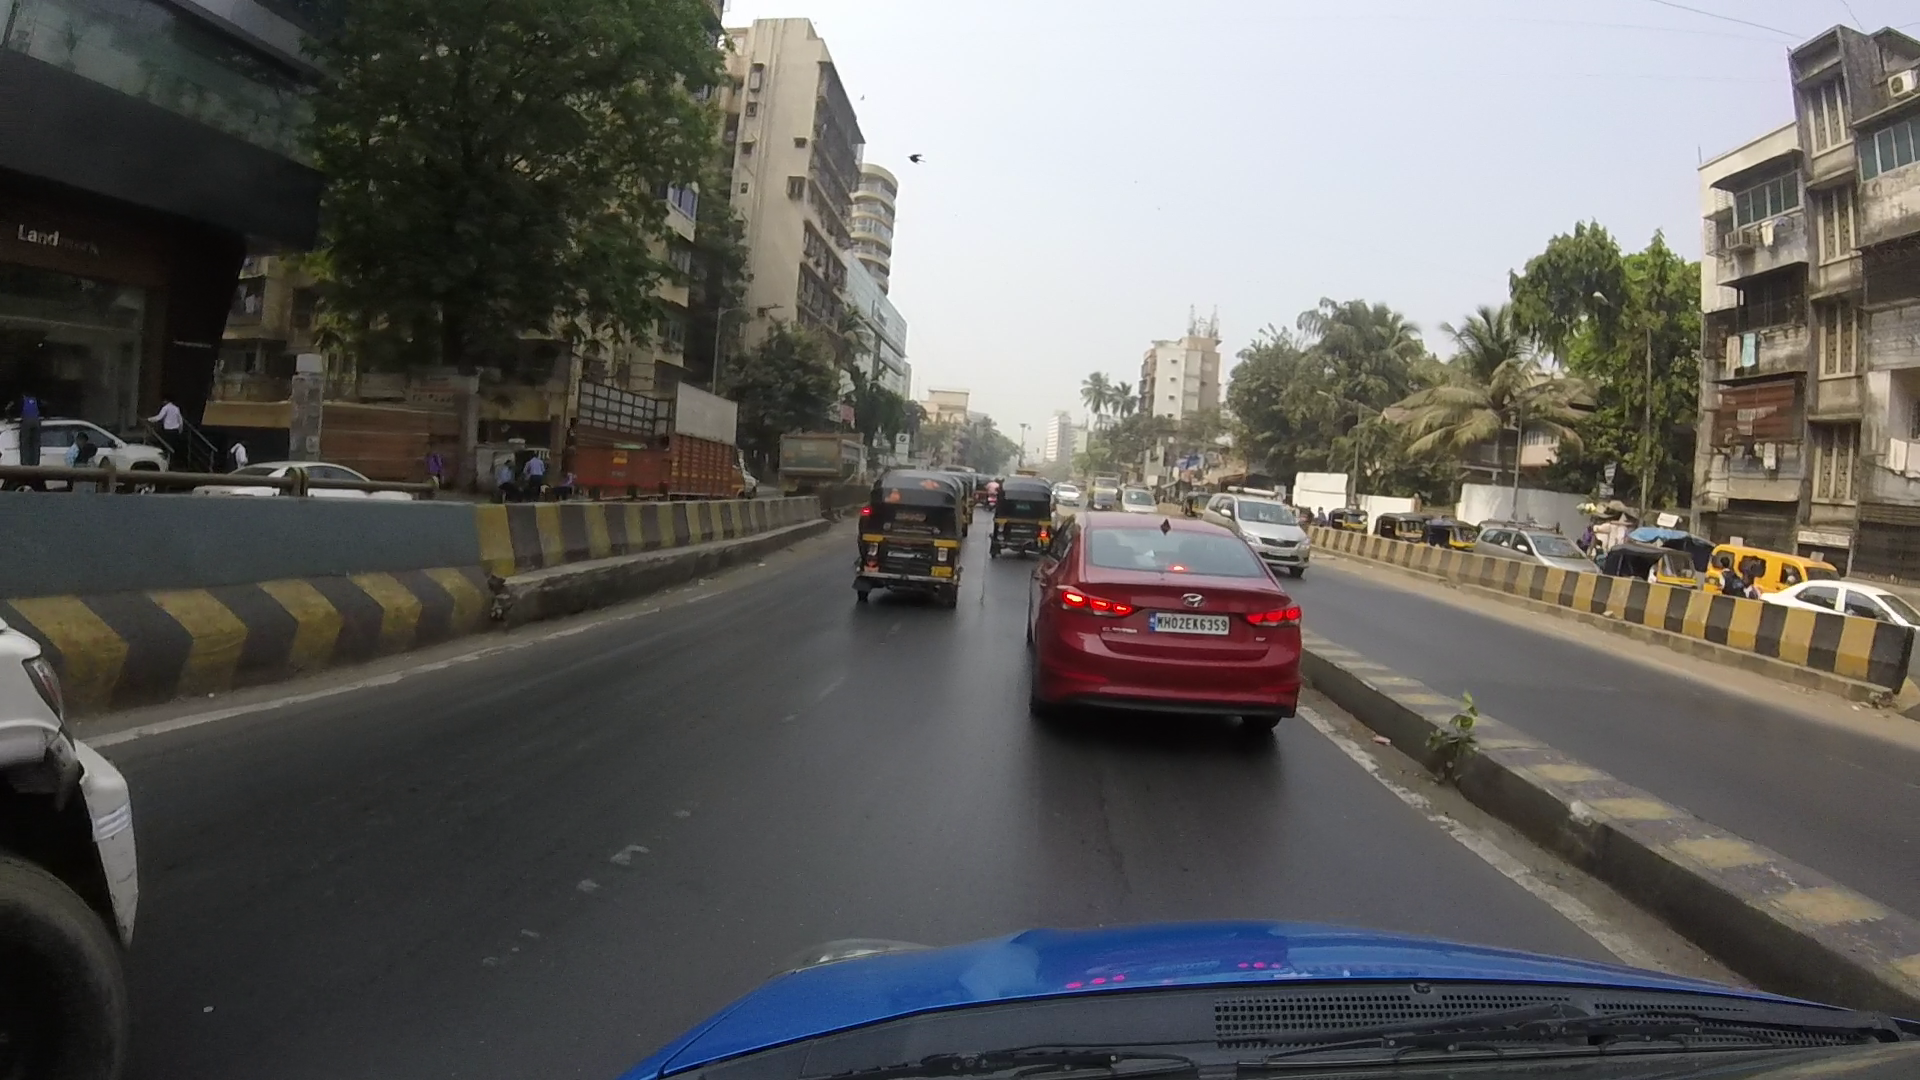car: (1031, 506, 1302, 731), (1213, 489, 1335, 574), (1768, 574, 1913, 624)
rickshaw: (858, 473, 975, 611)
truck: (572, 377, 731, 513)
